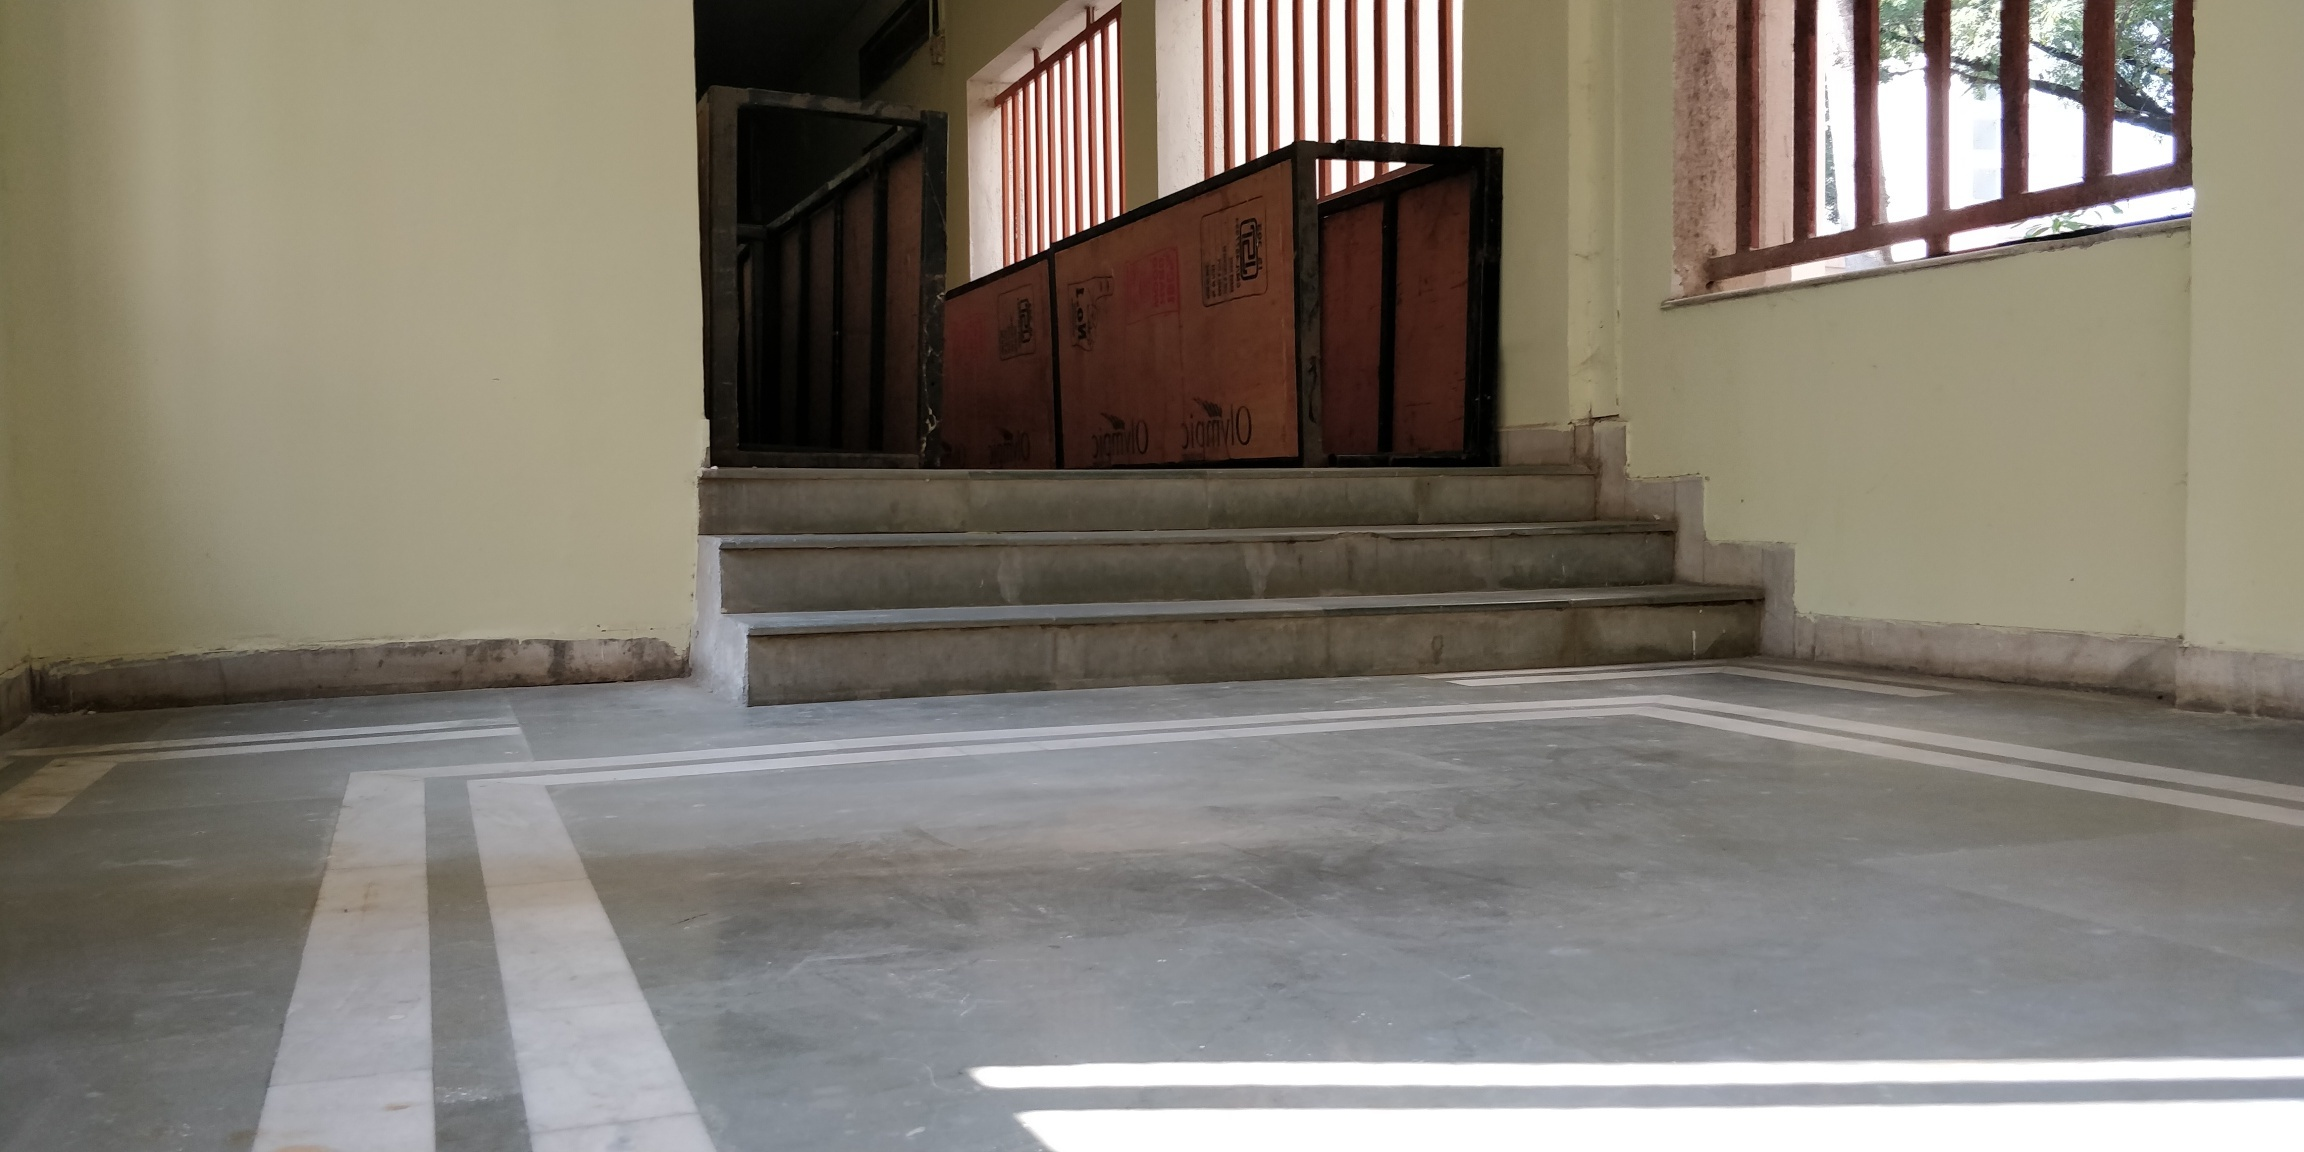stairs_up: (688, 450, 1779, 691)
